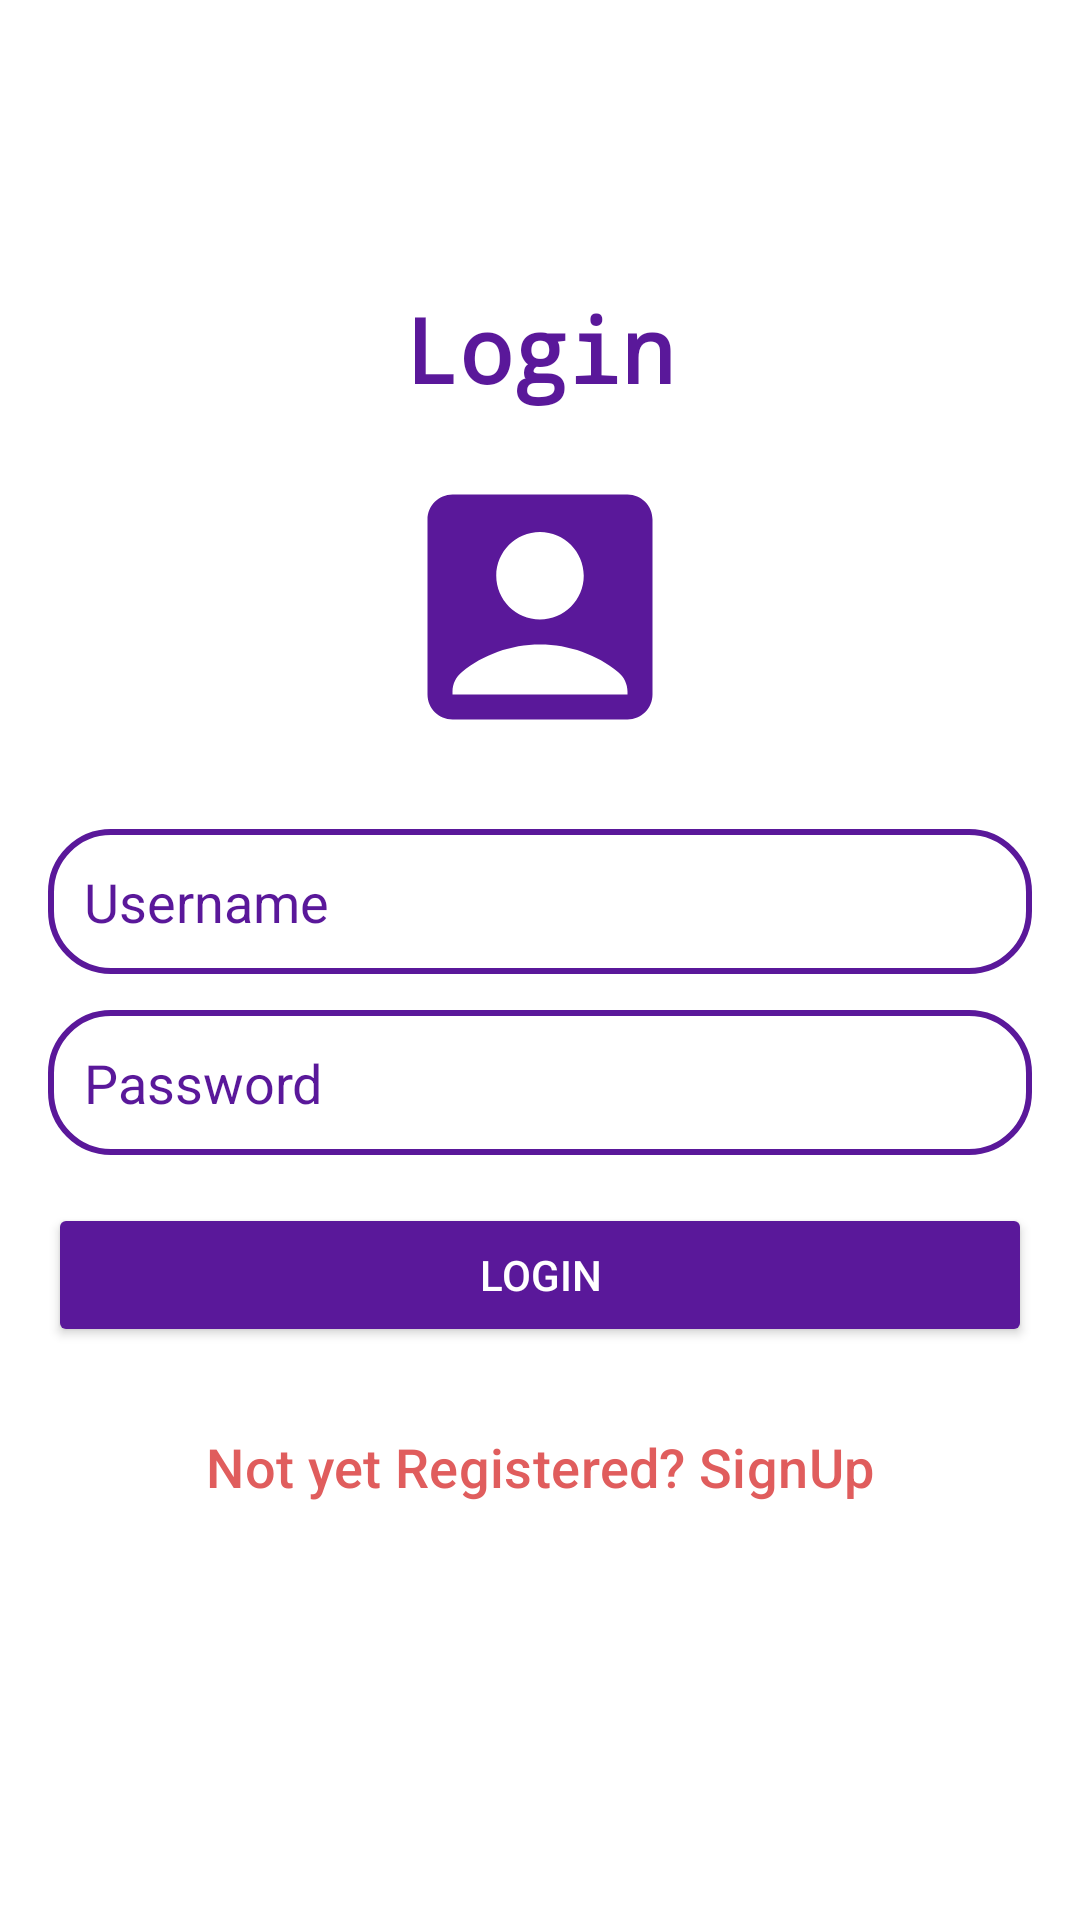

Icon click points for this 1080 x 1920 phone screenshot, format point (x, y):
account box: point (540, 607)
